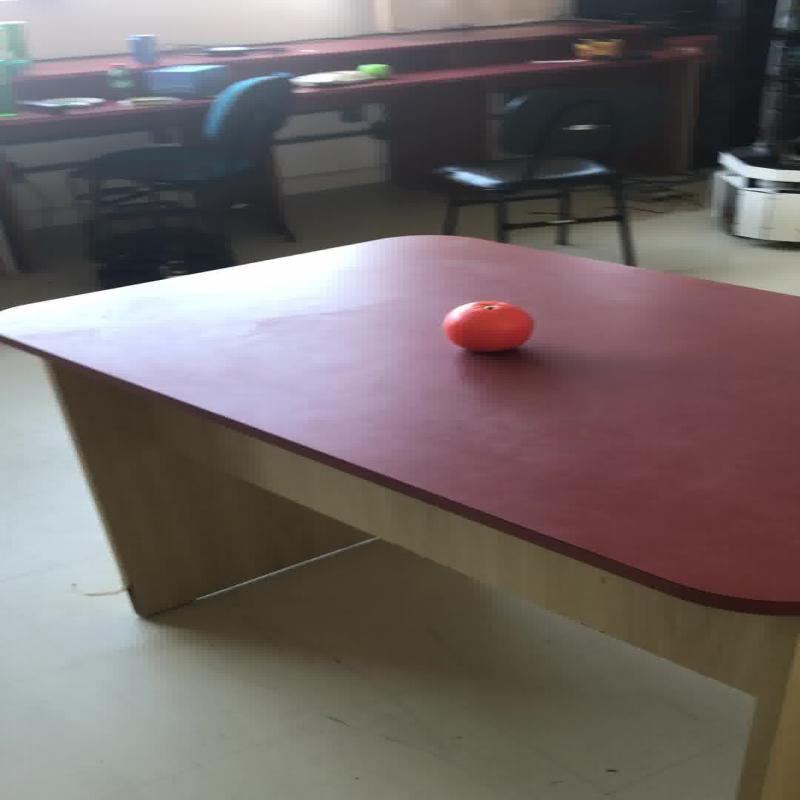orange: (440, 299, 534, 352), (355, 63, 390, 79)
